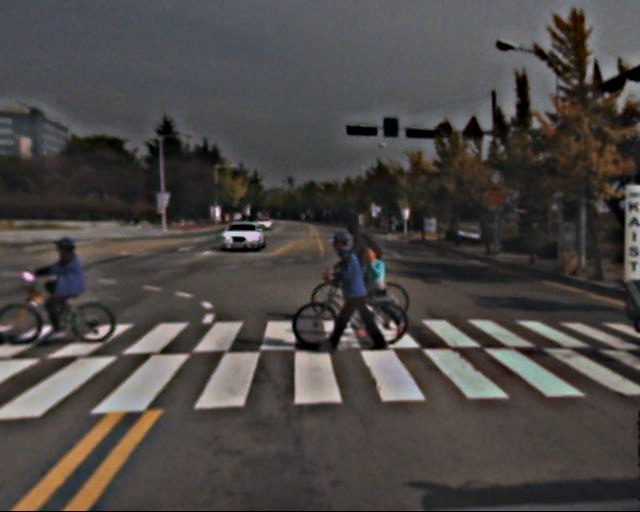person: (41, 231, 100, 337), (329, 233, 382, 350), (335, 220, 385, 330), (355, 241, 400, 345)
